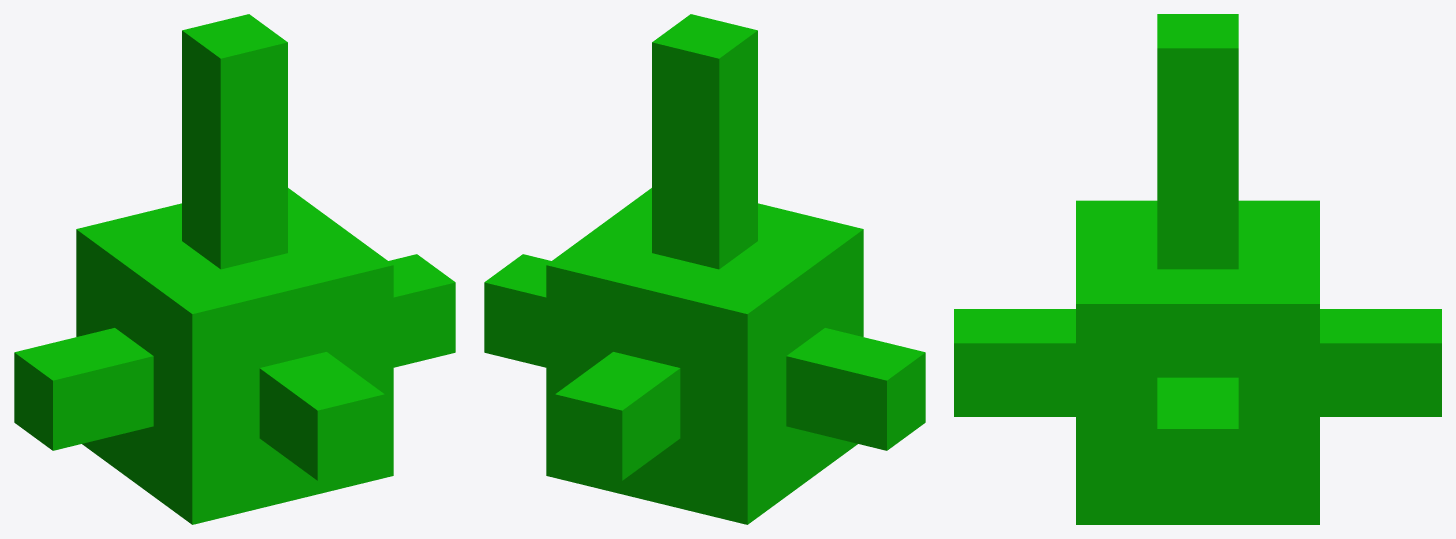
Rendered from testWidget.glb.
3 renders of one model, left to right at view 1: azimuth 30°, elevation 25°; view 2: azimuth 150°, elevation 25°; view 3: azimuth 270°, elevation 25°, orthographic. The views are drawn at different scales.
Parts seen in each view (by area): view 1: Cube; view 2: Cube; view 3: Cube.
Part boxes in pixels (left/top/right/bottom): Cube: left=14, top=14, right=455, bottom=524; Cube: left=484, top=14, right=925, bottom=524; Cube: left=954, top=14, right=1441, bottom=524.
Bounding box in the file's own units: 4 × 4 × 4.
1 material, 1 textured.
